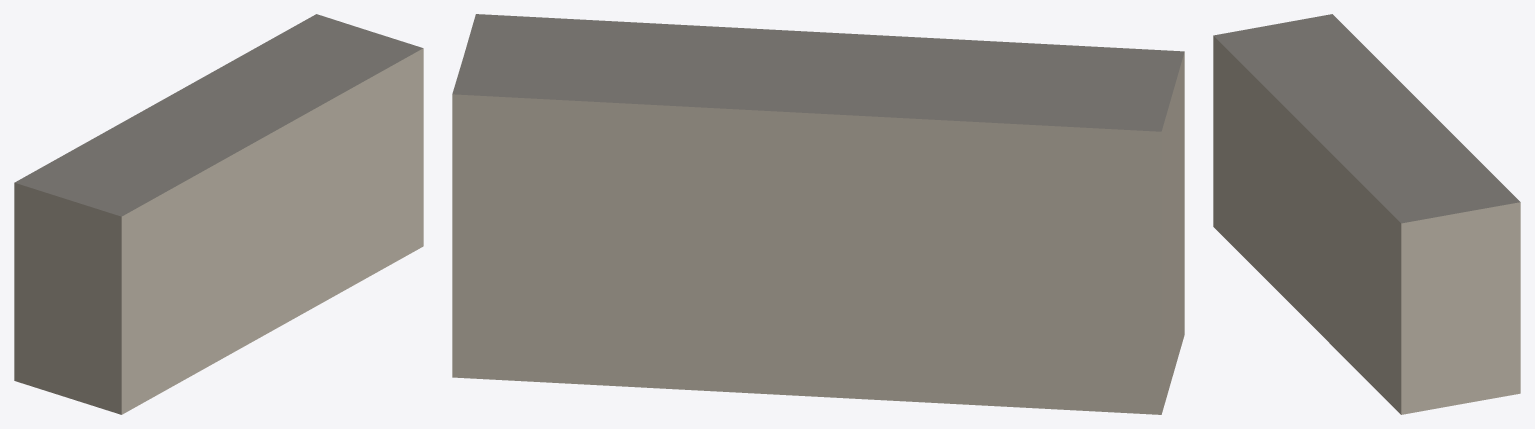
3 renders of one model, left to right at view 1: azimuth 30°, elevation 25°; view 2: azimuth 150°, elevation 25°; view 3: azimuth 270°, elevation 25°, orthographic. The views are drawn at different scales.
Parts seen in each view (by area): view 1: HP-w1435294155; view 2: HP-w1435294155; view 3: HP-w1435294155.
Part boxes in pixels (left/top/right/bottom): HP-w1435294155: left=14, top=14, right=423, bottom=414; HP-w1435294155: left=452, top=14, right=1184, bottom=414; HP-w1435294155: left=1213, top=14, right=1520, bottom=414.
Bounding box in the file's own units: 42.24 × 18 × 26.17.
